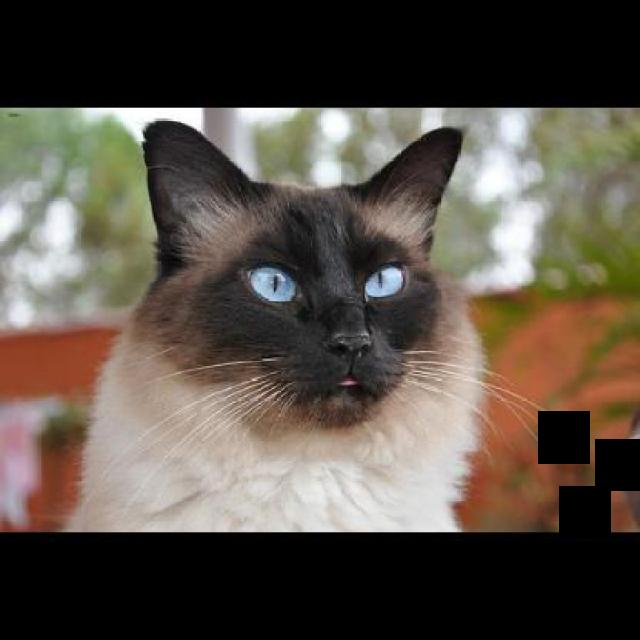unauthorized: (58, 117, 564, 532)
